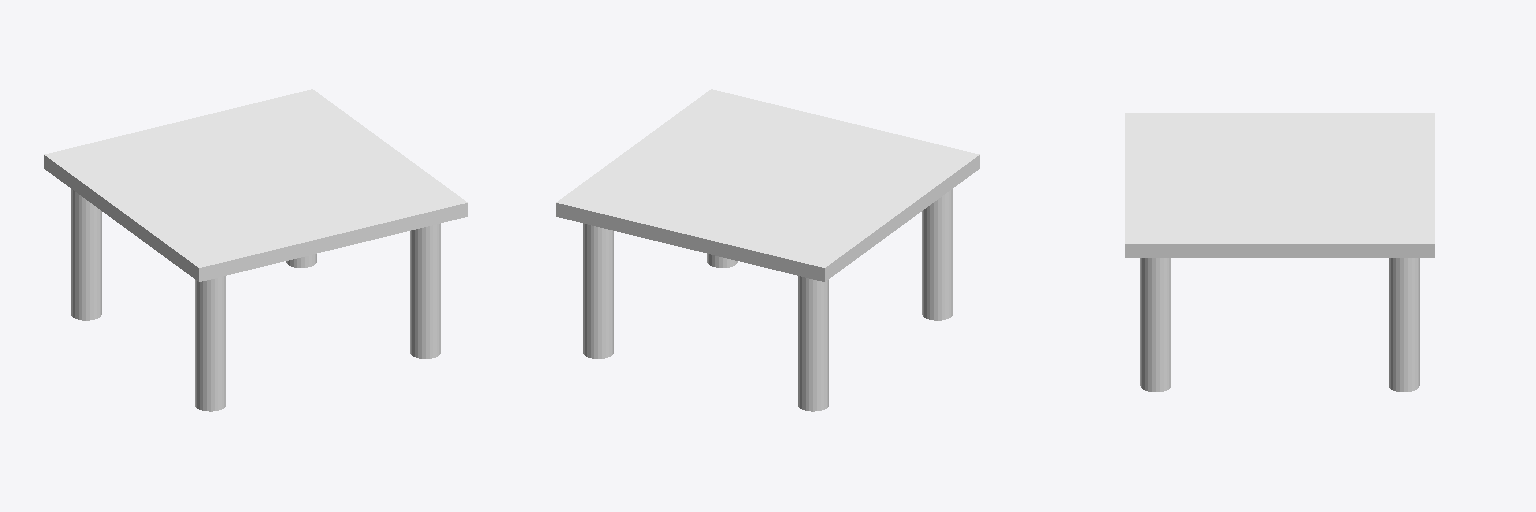
File: table_separate.obj
The picture shows the model from 3 angles: view 1: azimuth 30°, elevation 25°; view 2: azimuth 150°, elevation 25°; view 3: azimuth 270°, elevation 25°; orthographic projection.
Parts seen in each view (by area): view 1: block_default_9, cylinder_full_10, cylinder_full_7, cylinder_full_11; view 2: block_default_9, cylinder_full_11, cylinder_full_12, cylinder_full_10; view 3: block_default_9, cylinder_full_7, cylinder_full_12.
Boxes of the visible parts, x1=… form: block_default_9: x1=44, y1=89, x2=467, y2=281; cylinder_full_10: x1=195, y1=276, x2=225, y2=411; cylinder_full_7: x1=410, y1=223, x2=440, y2=358; cylinder_full_11: x1=71, y1=189, x2=101, y2=320; block_default_9: x1=556, y1=89, x2=979, y2=281; cylinder_full_11: x1=798, y1=276, x2=828, y2=411; cylinder_full_12: x1=583, y1=223, x2=613, y2=358; cylinder_full_10: x1=922, y1=189, x2=952, y2=320; block_default_9: x1=1125, y1=113, x2=1434, y2=257; cylinder_full_7: x1=1140, y1=258, x2=1170, y2=391; cylinder_full_12: x1=1389, y1=258, x2=1419, y2=391.
Size of the model in its own units: 2 by 1.1 by 2.